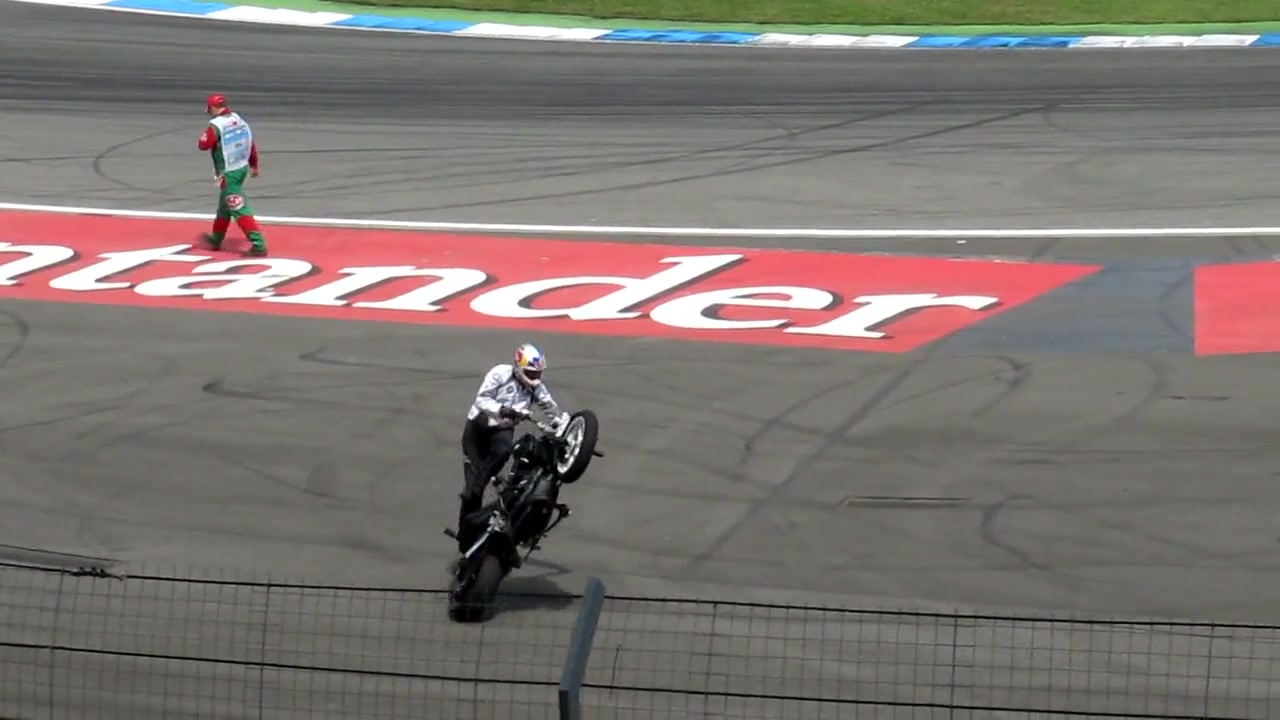motorbike: (442, 406, 611, 631)
